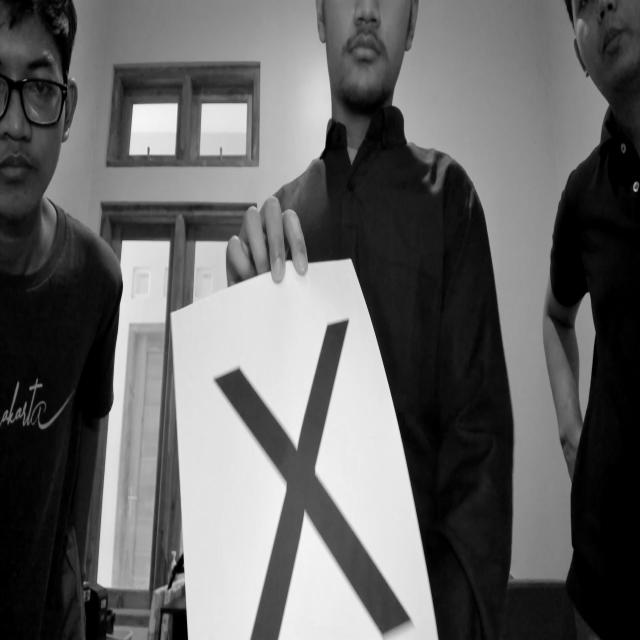x: (193, 292, 419, 640)
